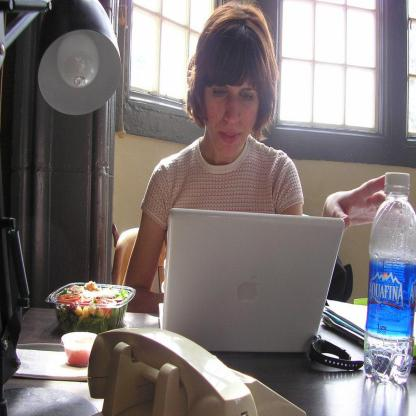board: (162, 214, 349, 368), (365, 175, 416, 387), (43, 281, 134, 332), (59, 330, 97, 366)
